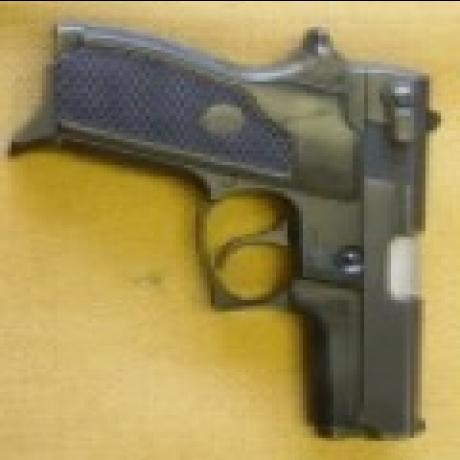weapon: (40, 12, 424, 442)
